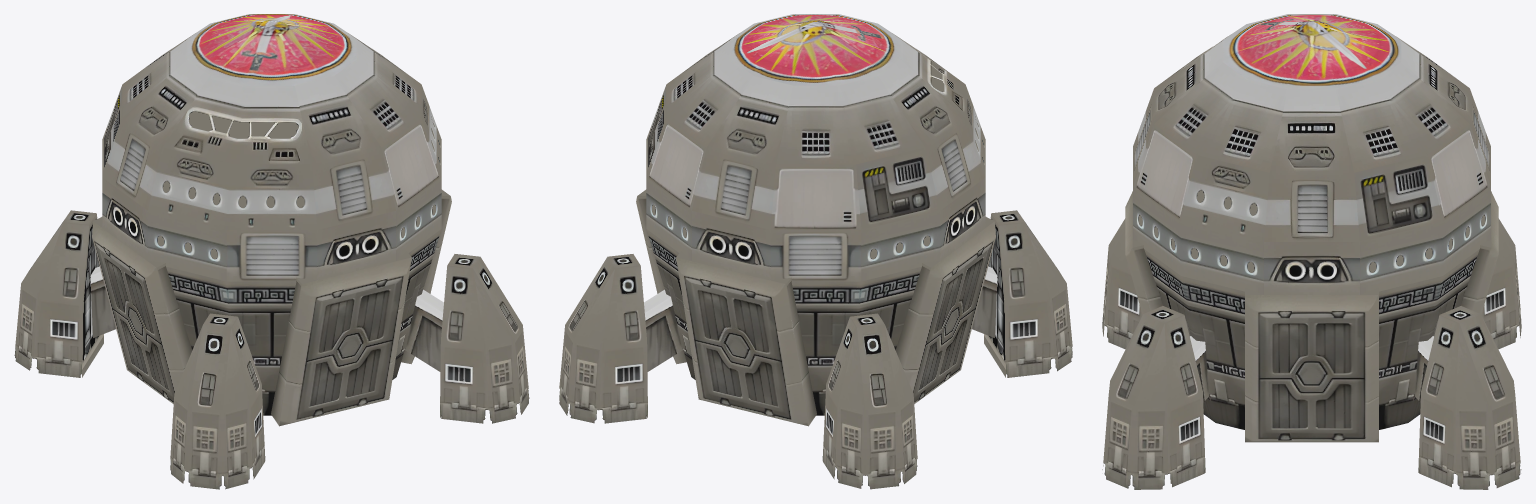
The model's file is dropshipdavion_hdtex.glb.
3 views of the same model, side by side, from view 1: azimuth 30°, elevation 25°; view 2: azimuth 150°, elevation 25°; view 3: azimuth 270°, elevation 25° (orthographic). The views are drawn at different scales.
Visible parts, largest first — view 1: Dropship, LitWin_Dropship; view 2: Dropship, LitWin_Dropship; view 3: Dropship, LitWin_Dropship.
Boxes of the visible parts, left/top/right/bottom form: Dropship: left=14, top=14, right=529, bottom=489; LitWin_Dropship: left=157, top=111, right=435, bottom=259; Dropship: left=559, top=14, right=1072, bottom=489; LitWin_Dropship: left=652, top=66, right=978, bottom=259; Dropship: left=1102, top=14, right=1521, bottom=489; LitWin_Dropship: left=1138, top=190, right=1485, bottom=272.
Bounding box in the file's own units: 34.84 × 34.67 × 34.84.
Materials: 1 (1 with a texture image).
